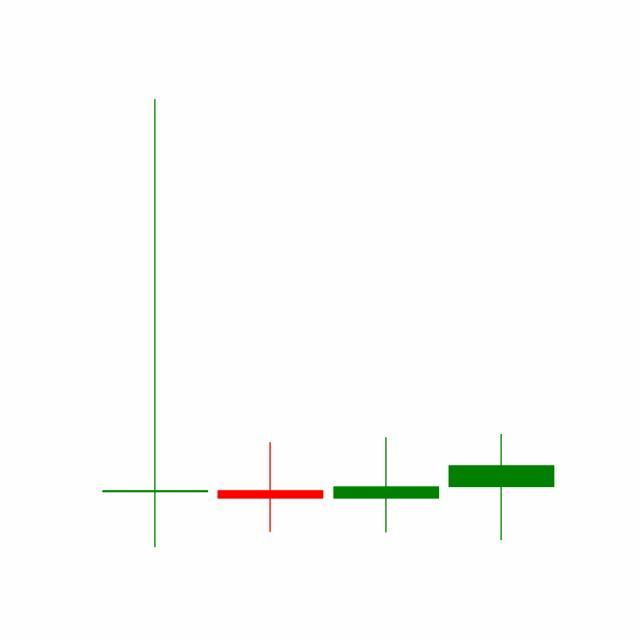Spinning Top: (329, 436, 445, 535)
